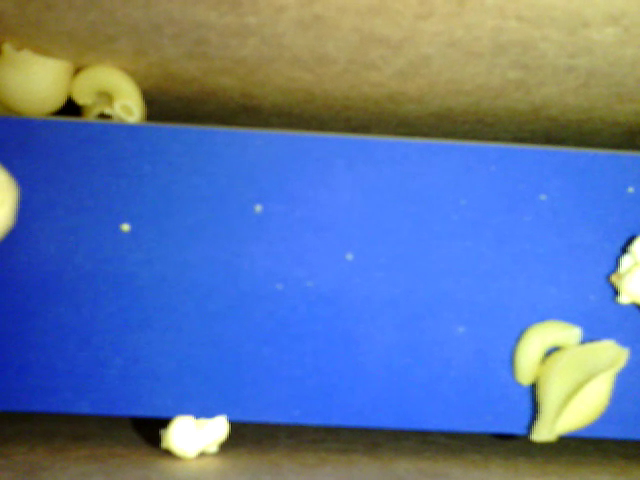elbow: (514, 319, 584, 387), (68, 63, 146, 120)
shell: (530, 338, 632, 444), (1, 46, 75, 118)
